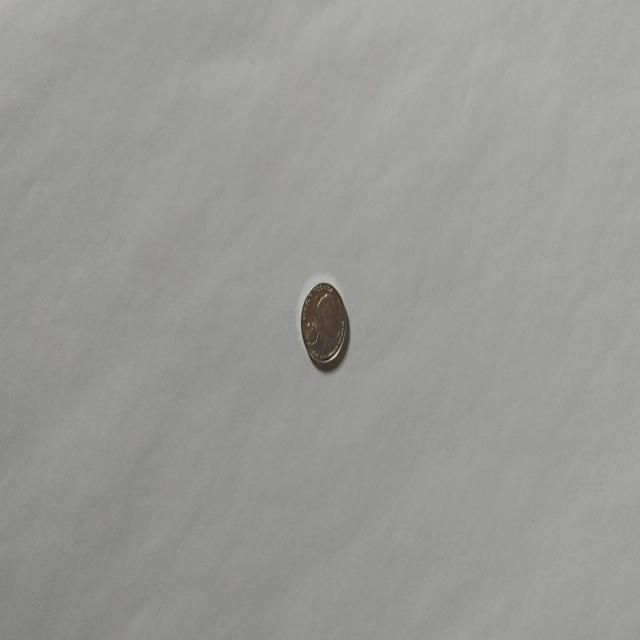seratus rupiah: (300, 280, 348, 370)
